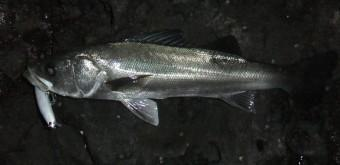fish: (26, 30, 330, 125)
